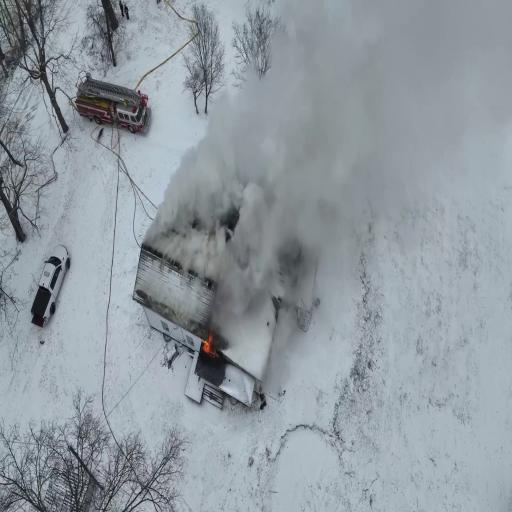fire: (204, 332, 213, 362)
smoke: (217, 101, 300, 235), (173, 179, 218, 280)
